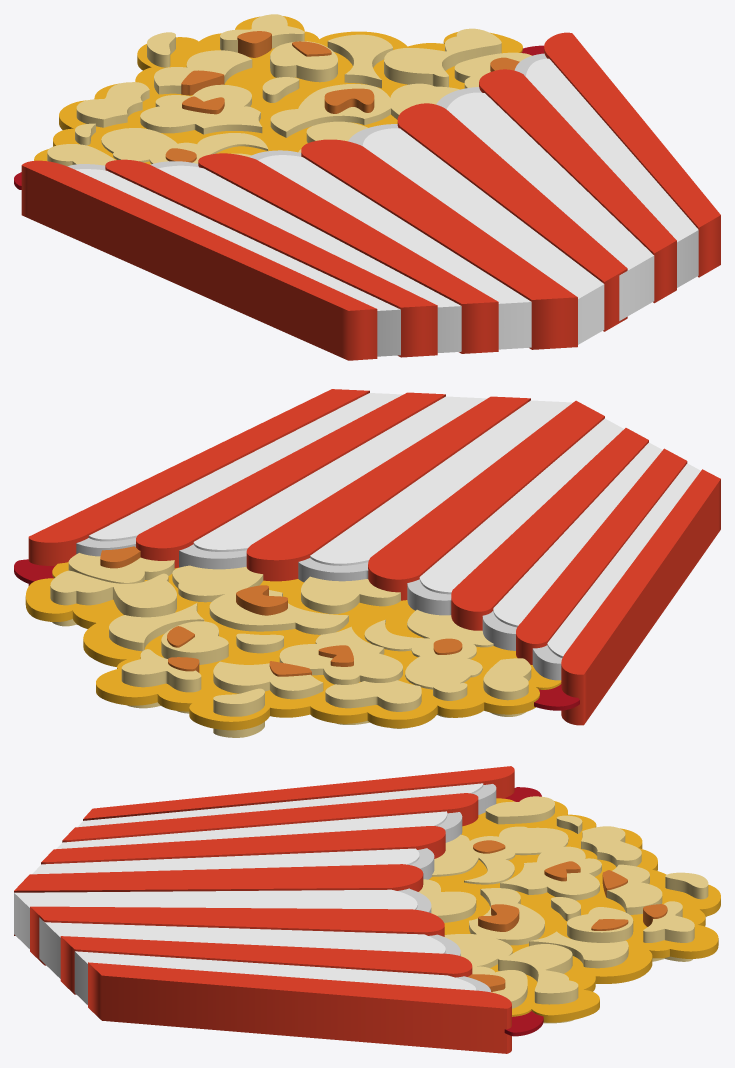
The model's file is emoji_u1f37f.glb.
3 renders of one model, top to bottom at view 1: azimuth 30°, elevation 25°; view 2: azimuth 150°, elevation 25°; view 3: azimuth 270°, elevation 25°, orthographic. The views are drawn at different scales.
Visible parts, largest first — view 1: emoji_u1f37f; view 2: emoji_u1f37f; view 3: emoji_u1f37f.
Boxes of the visible parts, x1,y1,x2,y2 form: emoji_u1f37f: (14, 14, 720, 360); emoji_u1f37f: (14, 389, 720, 737); emoji_u1f37f: (14, 766, 720, 1053).
Size of the model in its own units: 0.028 by 0.0024 by 0.034.
